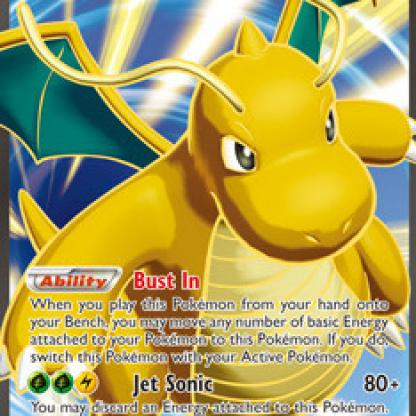Dragonite: (7, 7, 416, 281)
